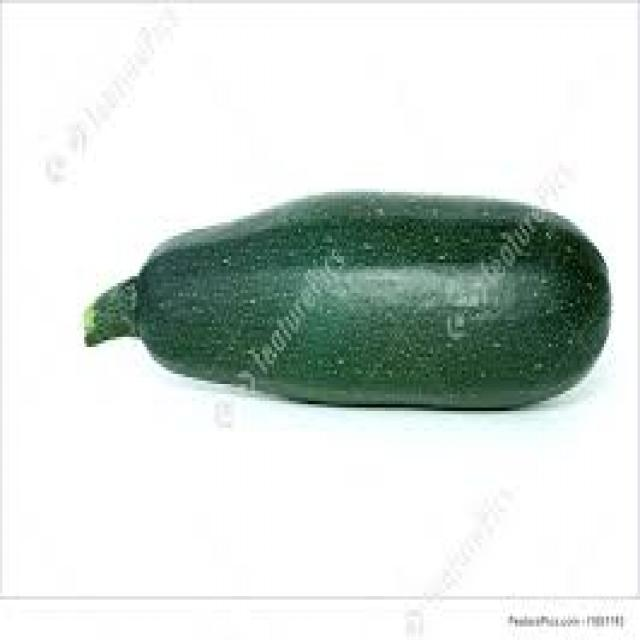organic waste: (84, 188, 609, 408)
